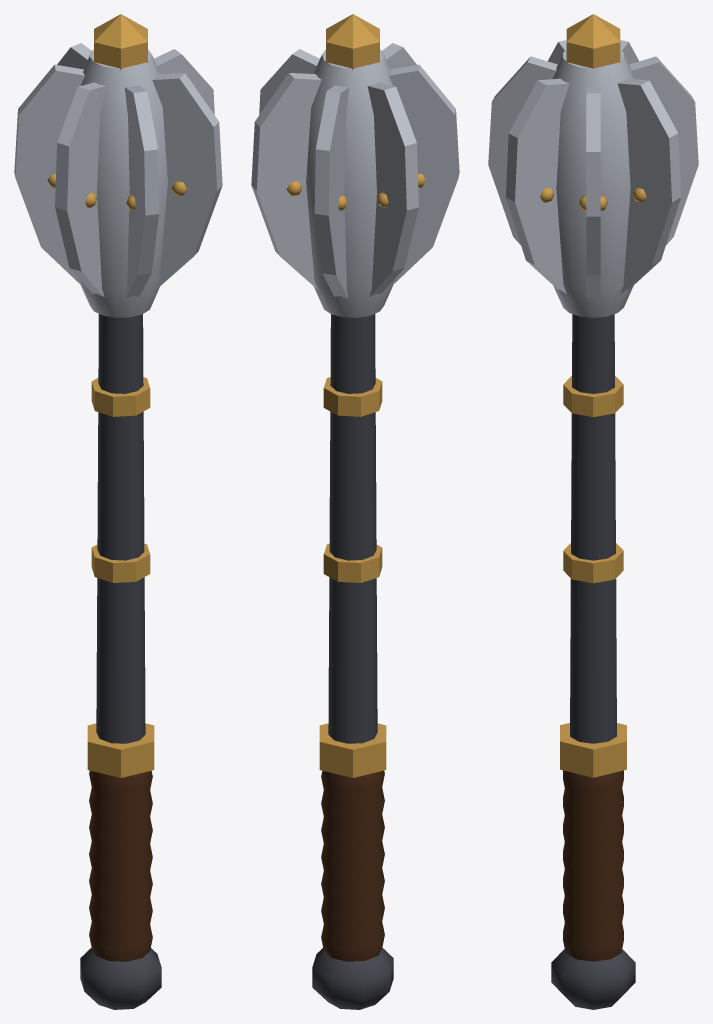
The model's file is mace.glb.
The picture shows the model from 3 angles, left to right: view 1: azimuth 30°, elevation 25°; view 2: azimuth 150°, elevation 25°; view 3: azimuth 270°, elevation 25°; orthographic projection.
Visible parts, largest first — view 1: Mace_Head, Mace_Shaft, Mace_Grip, Mace_Fittings, Mace_Pommel, Mace_Rivets; view 2: Mace_Head, Mace_Shaft, Mace_Grip, Mace_Fittings, Mace_Pommel, Mace_Rivets; view 3: Mace_Head, Mace_Shaft, Mace_Grip, Mace_Fittings, Mace_Pommel, Mace_Rivets.
Part boxes in pixels (x1,y1,x2,y2): Mace_Head: [14, 43, 222, 317]; Mace_Shaft: [96, 314, 145, 743]; Mace_Grip: [89, 770, 152, 961]; Mace_Fittings: [87, 14, 154, 777]; Mace_Pommel: [80, 948, 161, 1009]; Mace_Rivets: [47, 174, 187, 210]; Mace_Head: [251, 43, 459, 317]; Mace_Shaft: [328, 314, 377, 743]; Mace_Grip: [321, 770, 384, 961]; Mace_Fittings: [319, 14, 386, 777]; Mace_Pommel: [312, 948, 393, 1009]; Mace_Rivets: [286, 174, 426, 210]; Mace_Head: [488, 40, 698, 317]; Mace_Shaft: [570, 314, 616, 743]; Mace_Grip: [563, 770, 623, 961]; Mace_Fittings: [560, 14, 626, 777]; Mace_Pommel: [551, 949, 635, 1009]; Mace_Rivets: [540, 187, 646, 210].
Size of the model in its own units: 0.112 by 0.597 by 0.1149.
